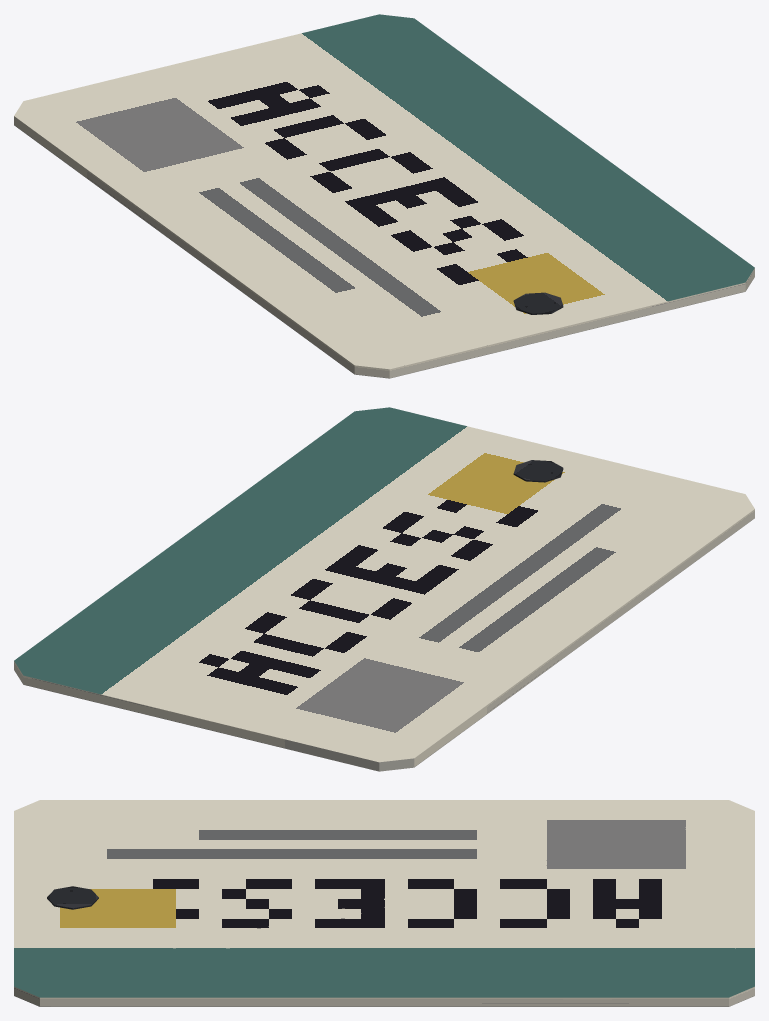
Rendered from INV_SecurityAccessCard.glb.
3 renders of one model, top to bottom at view 1: azimuth 30°, elevation 25°; view 2: azimuth 150°, elevation 25°; view 3: azimuth 270°, elevation 25°, orthographic.
Visible parts, largest first — view 1: INV_SecurityAccessCard_Mesh; view 2: INV_SecurityAccessCard_Mesh; view 3: INV_SecurityAccessCard_Mesh.
Boxes of the visible parts, x1=… form: INV_SecurityAccessCard_Mesh: x1=14, y1=14, x2=754, y2=378; INV_SecurityAccessCard_Mesh: x1=14, y1=407, x2=754, y2=771; INV_SecurityAccessCard_Mesh: x1=14, y1=800, x2=754, y2=1006.
Size of what is drawn, in the model's own units: 0.054 by 0.0014 by 0.0856.
Materials: 1 (1 with a texture image).
